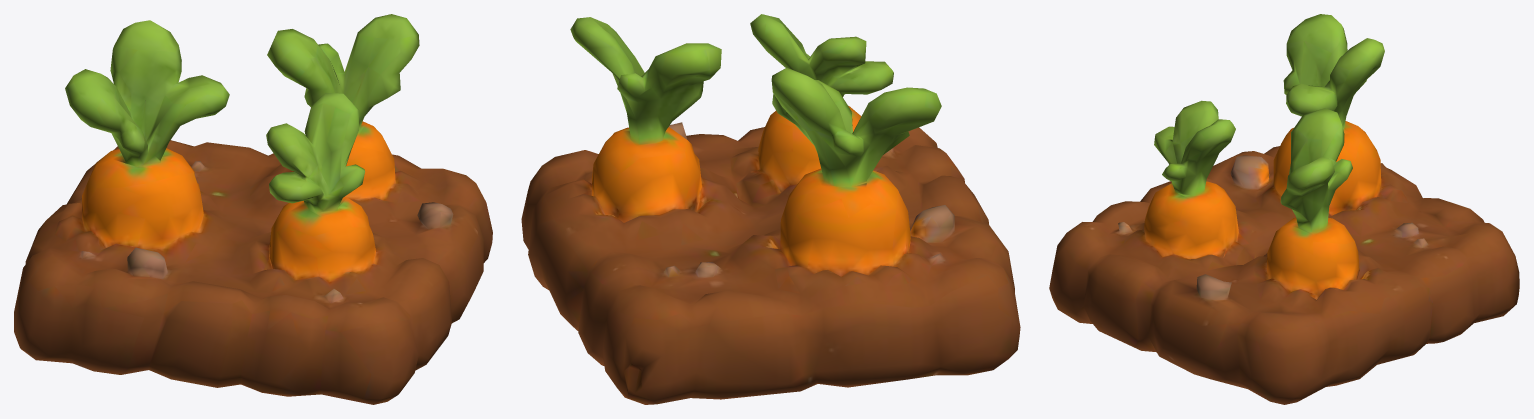
The picture shows the model from 3 angles, left to right: view 1: azimuth 30°, elevation 25°; view 2: azimuth 150°, elevation 25°; view 3: azimuth 270°, elevation 25°; orthographic projection. The views are drawn at different scales.
Visible parts, largest first — view 1: carrot-growing; view 2: carrot-growing; view 3: carrot-growing.
Part boxes in pixels (x1,y1,x2,y2): carrot-growing: (14,14,492,404); carrot-growing: (521,14,1020,404); carrot-growing: (1049,14,1519,404).
Bounding box in the file's own units: 0.7925 × 0.4493 × 0.7916.
1 material, 1 textured.
